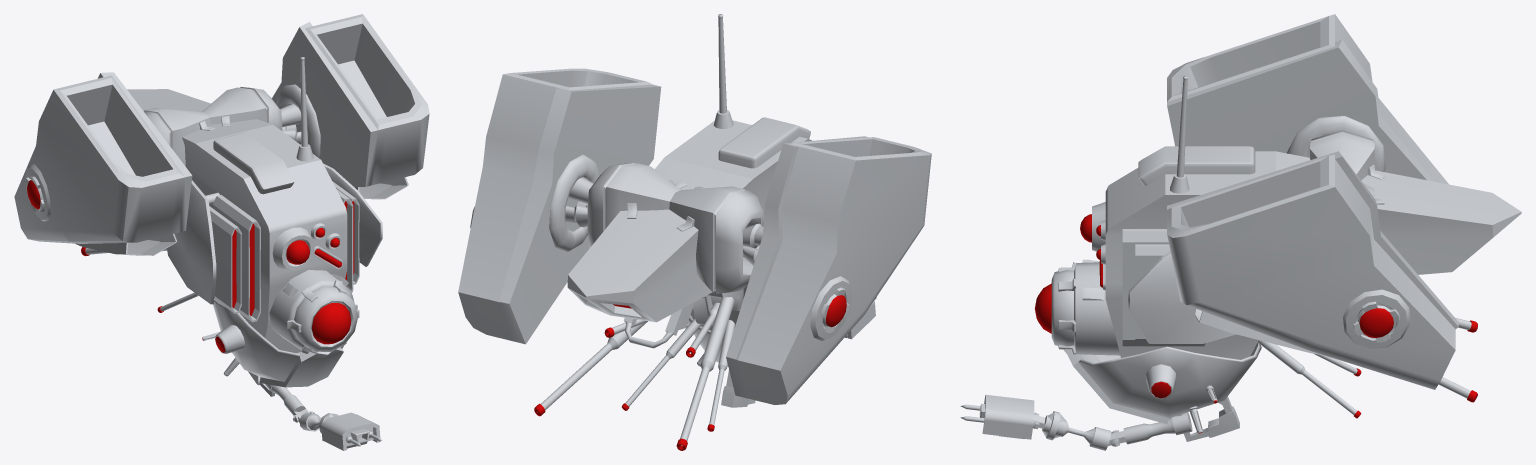
Rendered from Drone.fbx.
3 views of the same model, side by side, from view 1: azimuth 30°, elevation 25°; view 2: azimuth 150°, elevation 25°; view 3: azimuth 270°, elevation 25° (orthographic). The views are drawn at different scales.
Visible parts, largest first — view 1: Drone_Mesh; view 2: Drone_Mesh; view 3: Drone_Mesh.
Part boxes in pixels (x1,y1,x2,y2): Drone_Mesh: [14, 14, 429, 450]; Drone_Mesh: [458, 14, 931, 450]; Drone_Mesh: [960, 14, 1521, 450].
Size of the model in its own units: 10.48 by 10.63 by 13.89.
